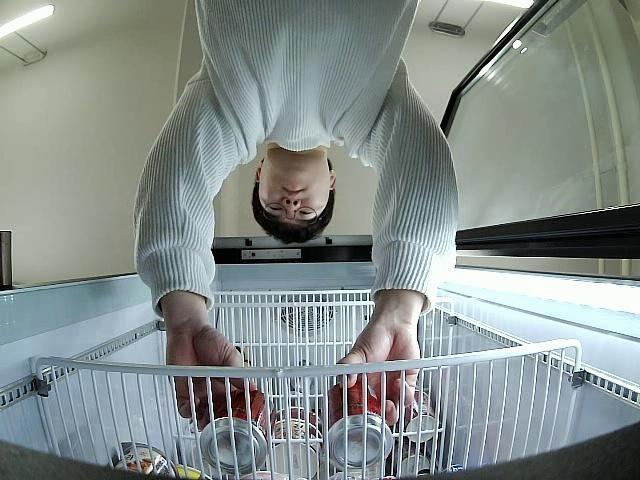11_cocaColaZero: (326, 379, 394, 467), (198, 390, 271, 470)
